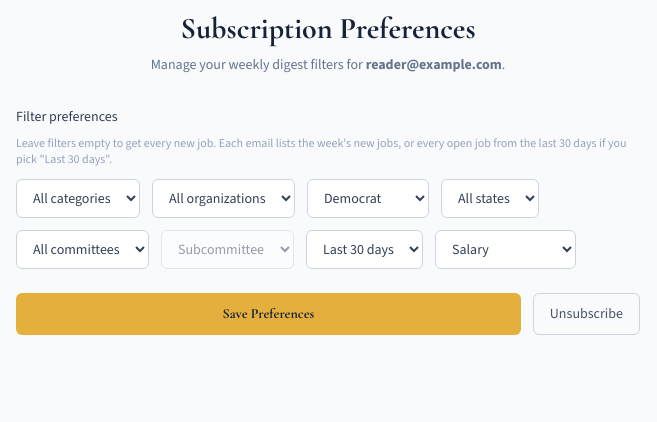
Scenario: Preferences › restores and saves the date posted choice
Select "Last 7 days" in the dropdown named "Posted within": [364, 250] box [306,230,423,269]
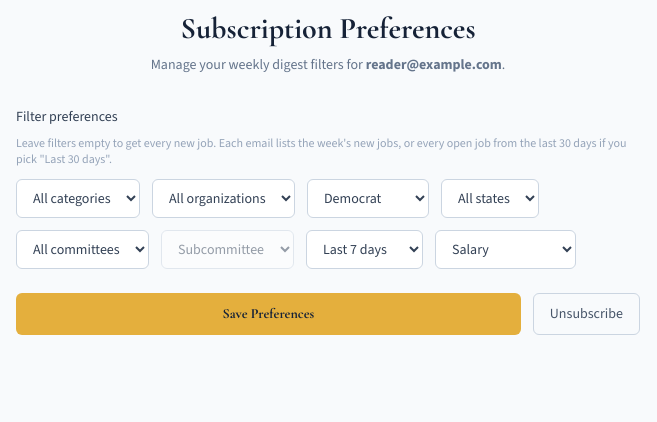
Click the button "Save Preferences": [268, 314] box [16,293,521,335]
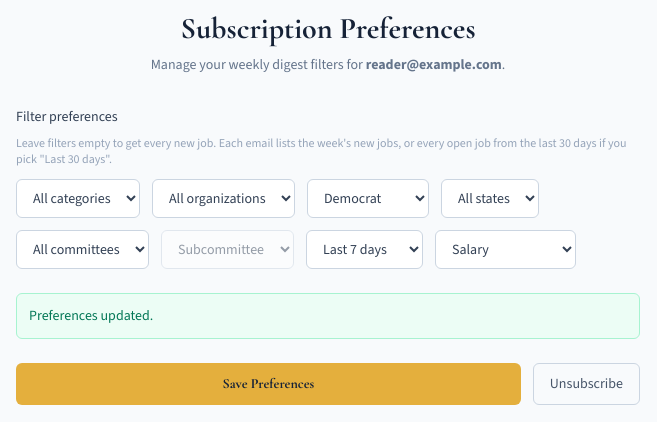
Now the text "Preferences updated." is shown, box [16,293,640,339]
